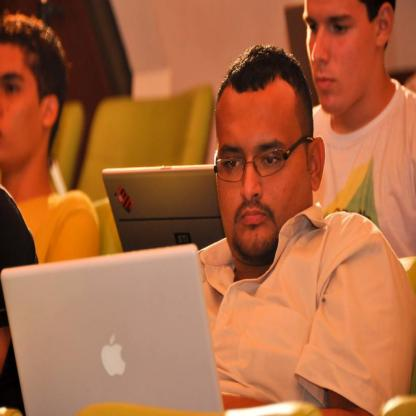board: (0, 243, 224, 415), (102, 165, 225, 249)
